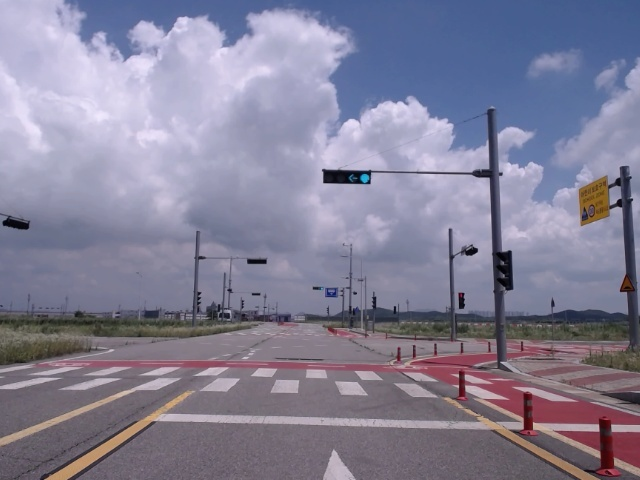all_green_4: (320, 168, 371, 186)
